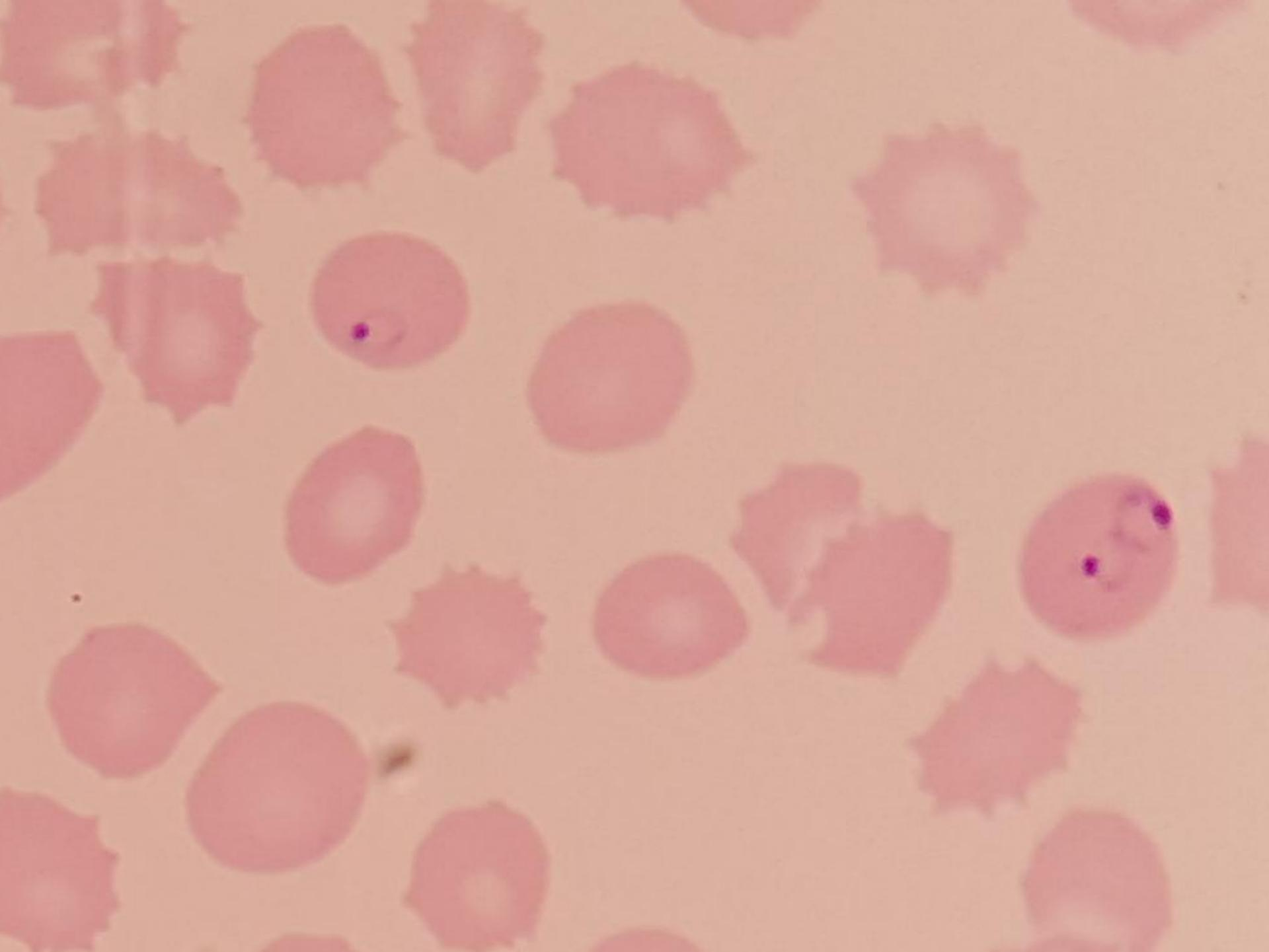Infected: (92, 311, 249, 476), (800, 581, 958, 719)
Uninfected: (519, 729, 719, 887), (232, 655, 416, 826), (900, 79, 1082, 246), (313, 278, 485, 447), (1005, 528, 1174, 692), (1050, 170, 1219, 330), (860, 762, 1022, 928), (186, 135, 354, 293), (1024, 691, 1223, 821), (574, 497, 737, 651), (719, 780, 861, 949), (844, 367, 984, 523), (722, 243, 875, 384), (96, 3, 247, 143), (721, 2, 863, 147), (400, 341, 538, 489), (519, 270, 673, 396), (1150, 1, 1267, 159), (1084, 842, 1260, 947)
